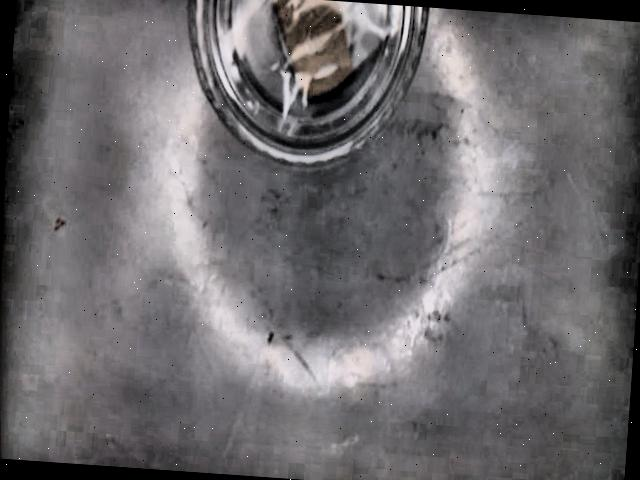Almennt: (189, 0, 428, 161)
